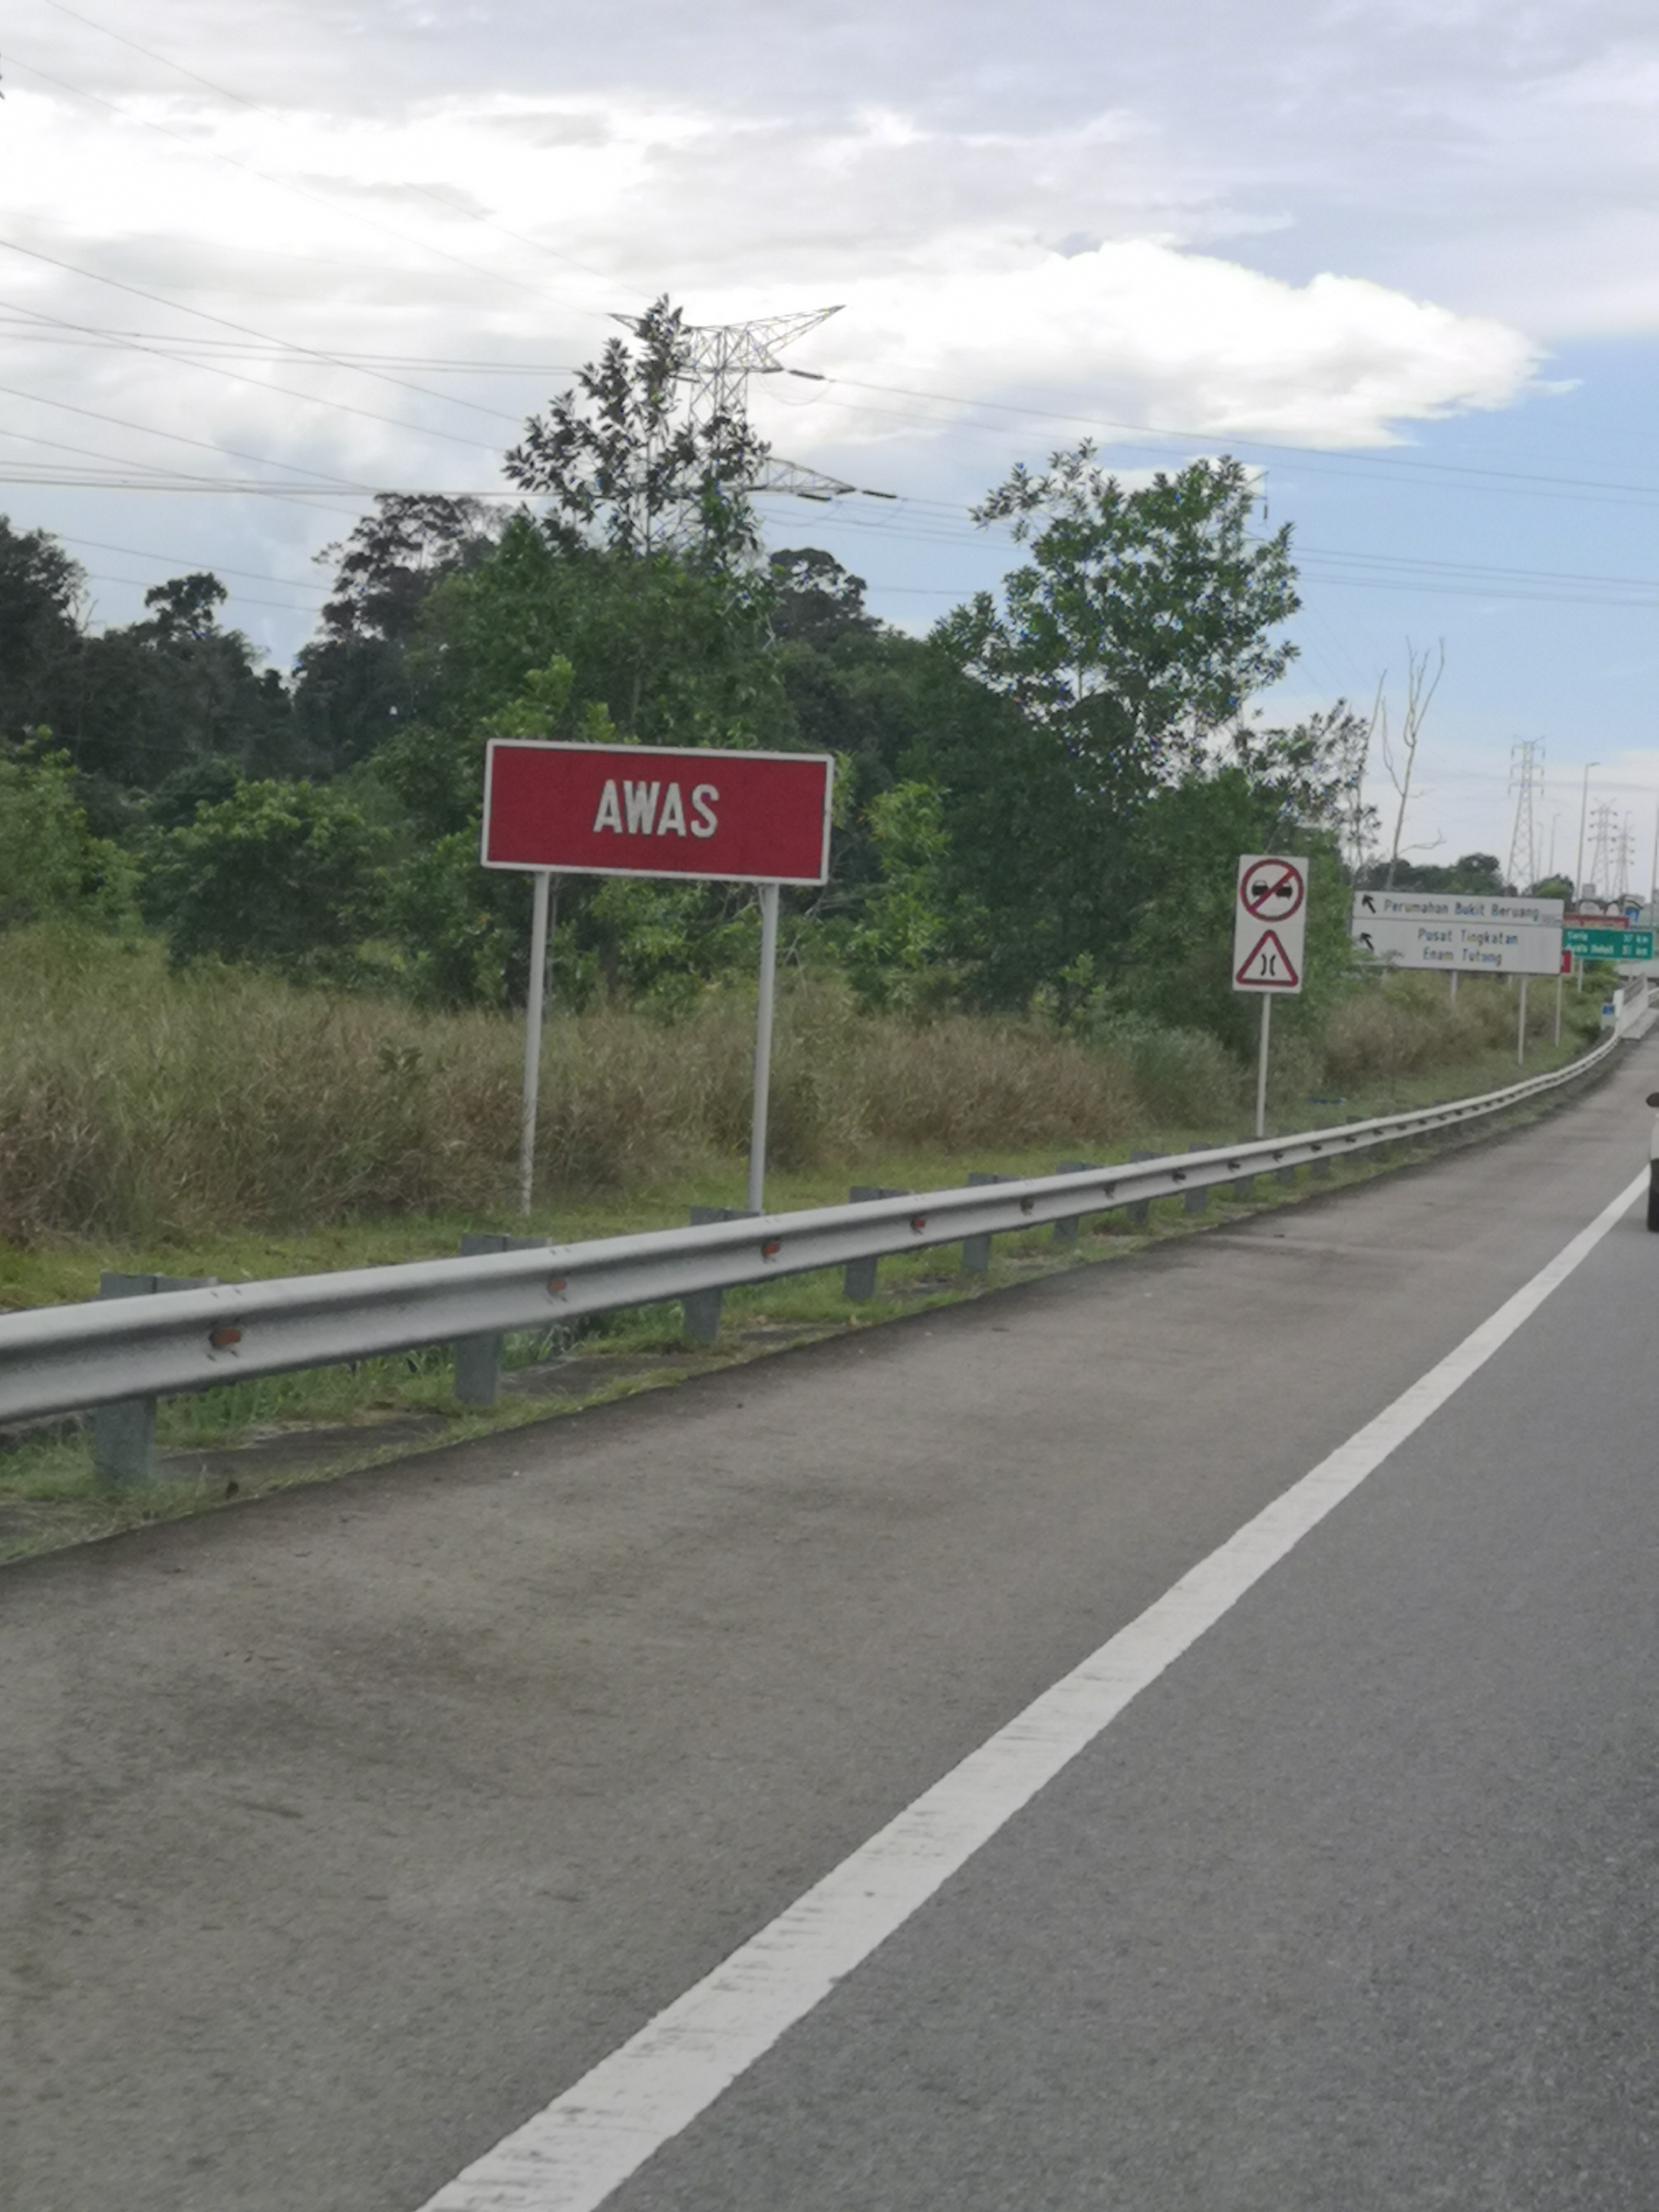beware: (469, 735, 847, 909)
narrow bridge: (1234, 927, 1314, 995)
no overtaking: (1230, 859, 1302, 927)
